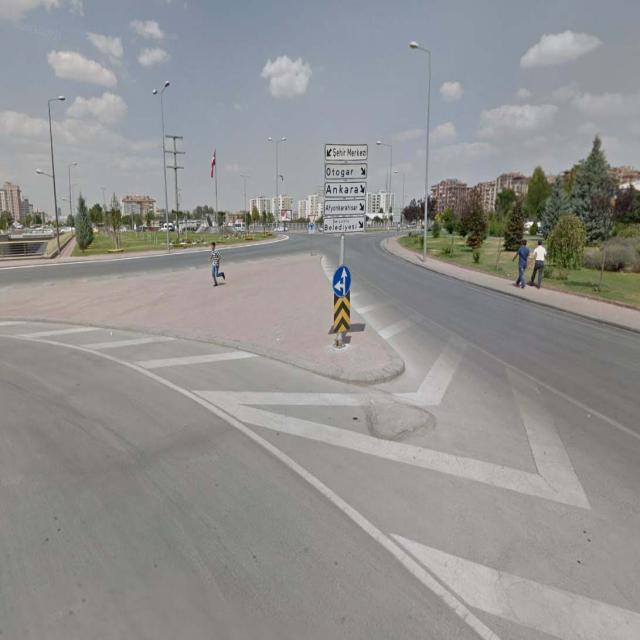ilerisol: (332, 266, 350, 296)
